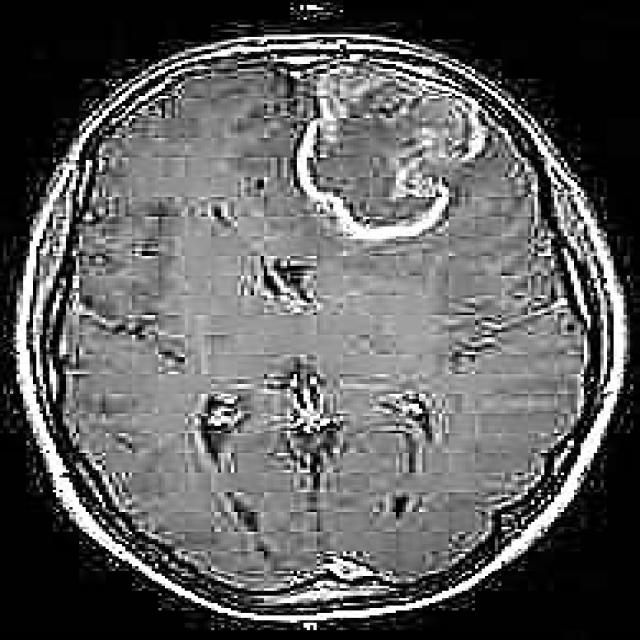Tumor-Cell: (285, 75, 456, 252)
